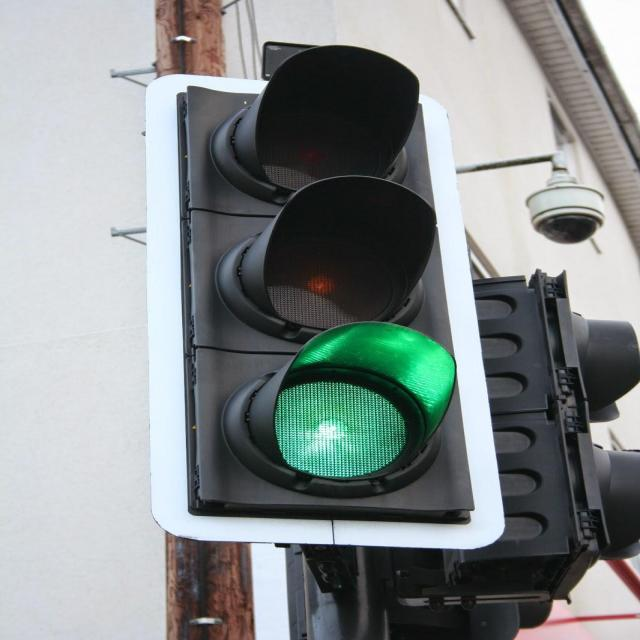green_light: (195, 50, 464, 516)
